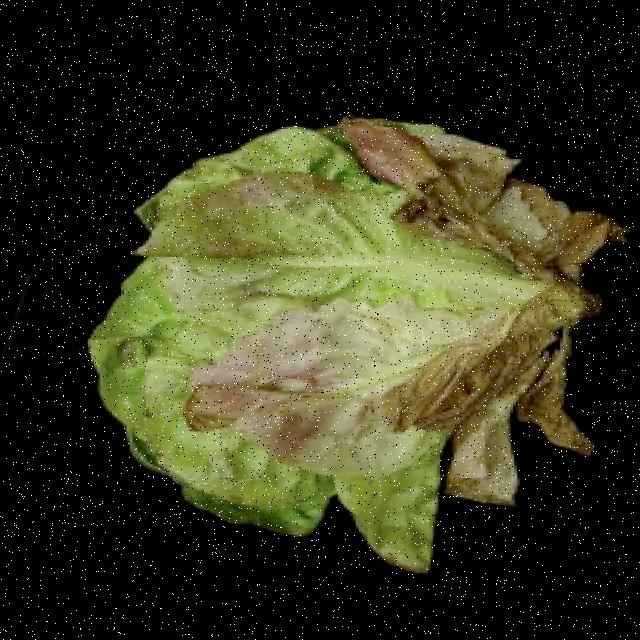Downy_mildew_on_lettuce: (91, 116, 610, 525)
